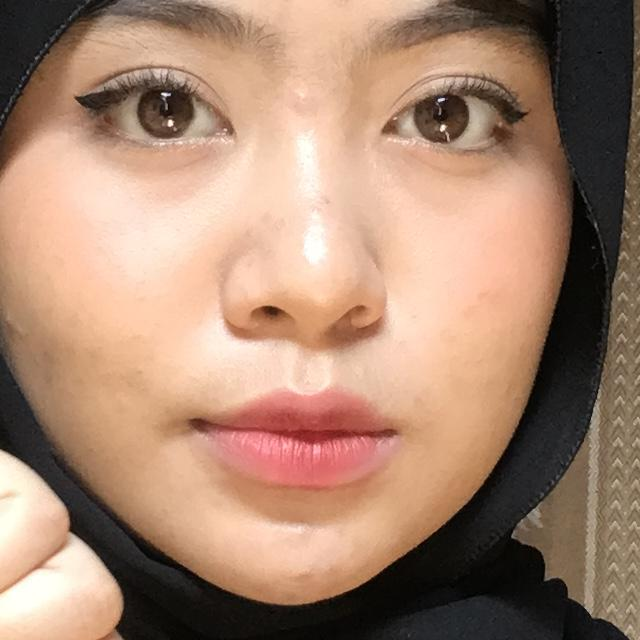sedih: (0, 396, 355, 640)
